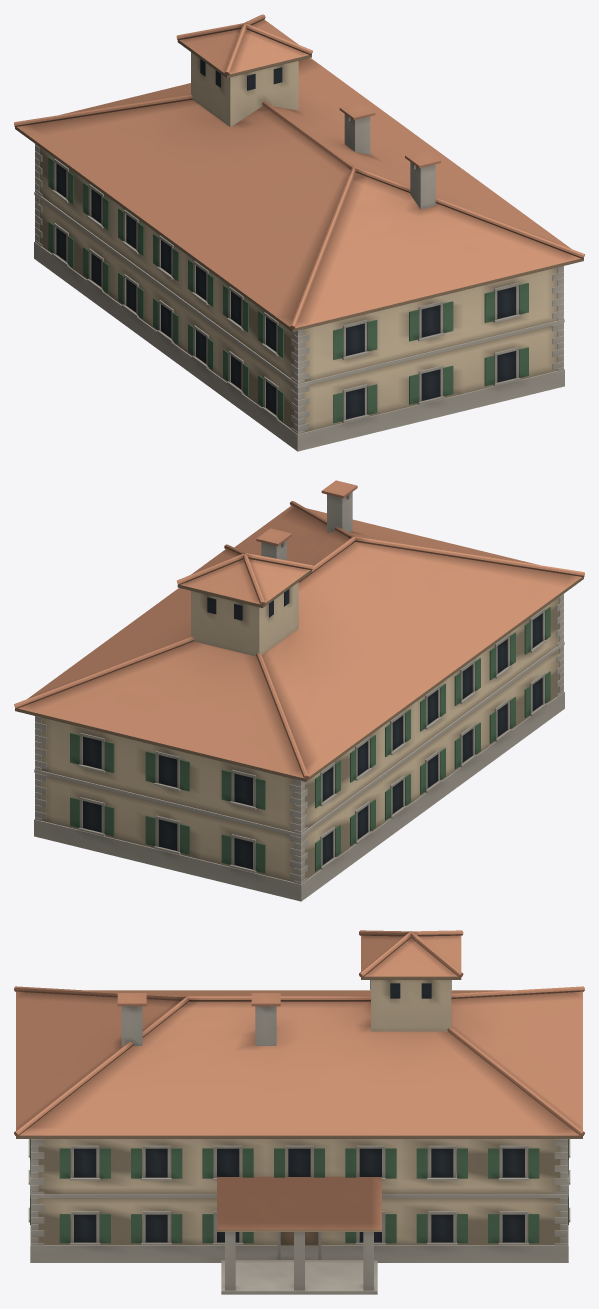
Rendered from casale.glb.
3 renders of one model, top to bottom at view 1: azimuth 30°, elevation 25°; view 2: azimuth 150°, elevation 25°; view 3: azimuth 270°, elevation 25°, orthographic. The views are drawn at different scales.
Visible parts, largest first — view 1: casale; view 2: casale; view 3: casale.
Part boxes in pixels (x1,y1,x2,y2): casale: (14, 14, 584, 451); casale: (14, 480, 584, 901); casale: (14, 930, 584, 1294).
Size of the model in its own units: 18.49 by 13.14 by 25.58.
